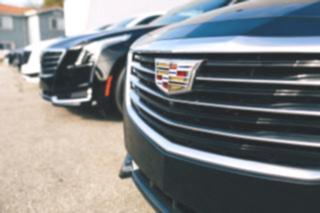cadillac: (150, 51, 210, 101)
